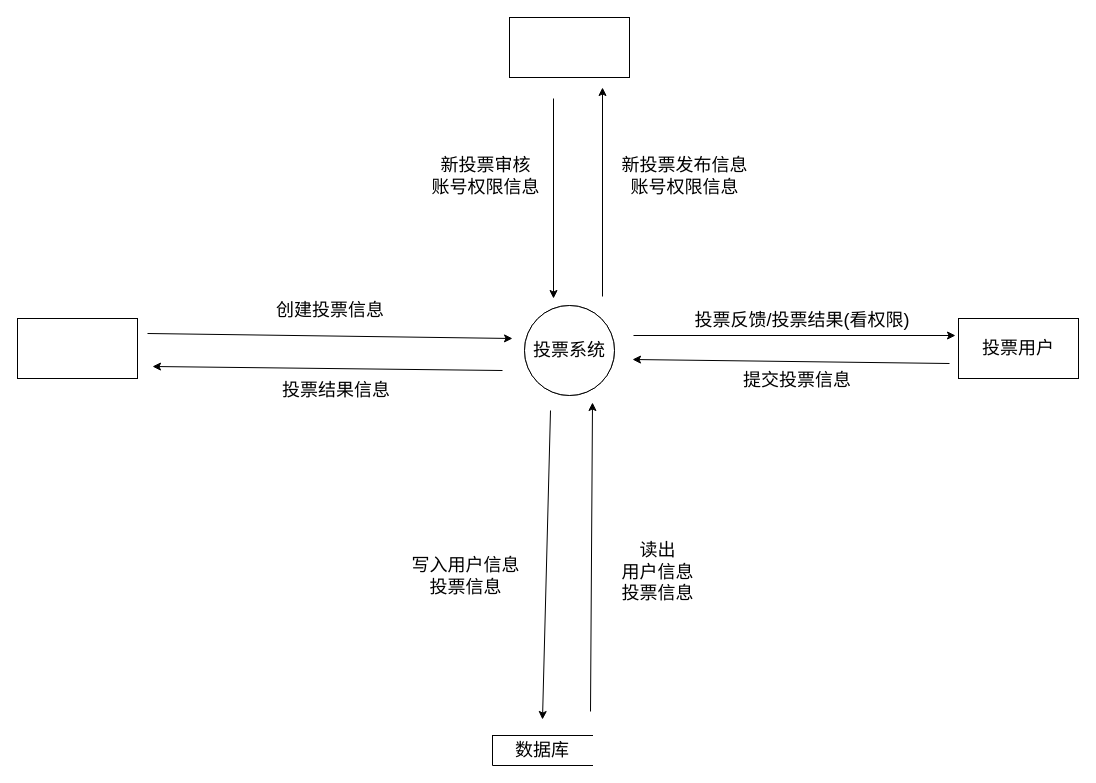
The diagram is 1096 pixels wide and 783 high, and some of its shapes have lost their labels. Each missing label, with the box of its shape:
投票发布者: (16, 318, 138, 378)
系统管理员: (508, 16, 630, 78)
